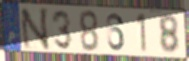1: (135, 12, 148, 55)
3: (51, 9, 74, 52)
6: (106, 13, 126, 53)
8: (78, 9, 101, 54), (158, 13, 182, 56)
N: (18, 7, 51, 51)
